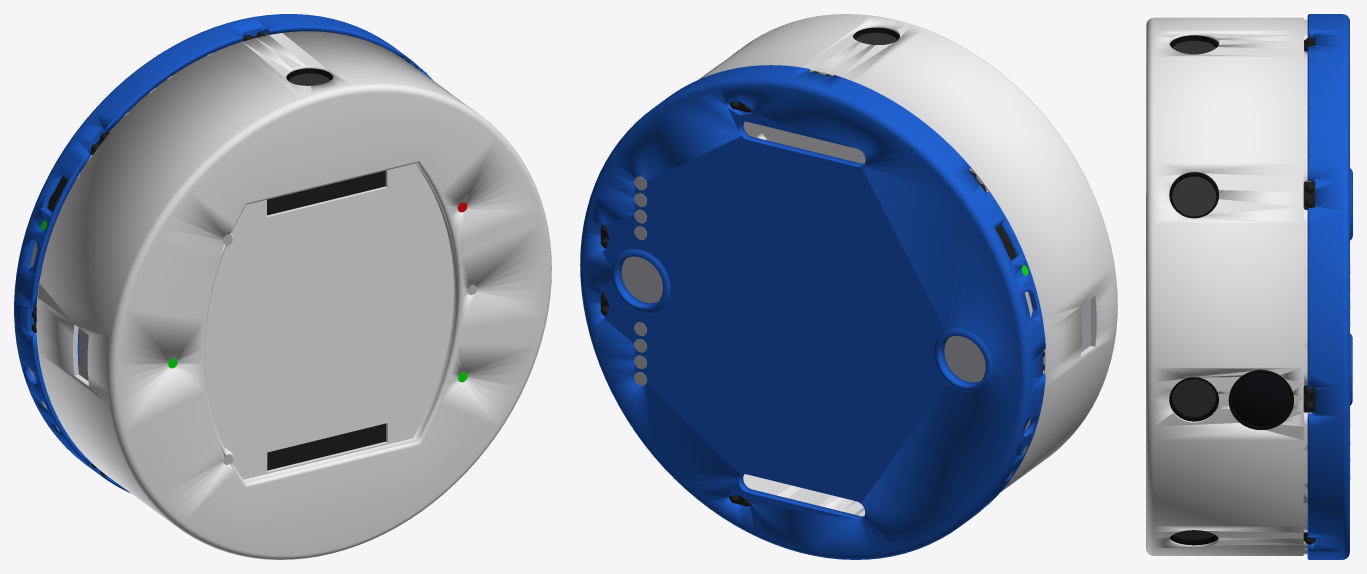
File: khepera4_chassis.obj
3 views of the same model, side by side, from view 1: azimuth 30°, elevation 25°; view 2: azimuth 150°, elevation 25°; view 3: azimuth 270°, elevation 25° (orthographic). The views are drawn at different scales.
Visible parts, largest first — view 1: Case, Base, KB-250_Extension_r, KB-250_Extension_l; view 2: Base, Case, Front_caster_support, Back_caster_support; view 3: Case, Base, Front_camera, Ultrasonic_sensor_front_left, Ultrasonic_sensor_front, Ultrasonic_sensor_hole_front_left, Ultrasonic_sensor_hole_front, Ultrasonic_sensor_left, IR_Sensor_front_l, IR_Sensor_front, Ultrasonic_sensor_front_right, Ultrasonic_sensor_left_hole (+1 smaller).
Boxes of the visible parts, x1=… form: Case: x1=35, y1=31, x2=551, y2=559; Base: x1=14, y1=14, x2=432, y2=493; KB-250_Extension_r: x1=267, y1=423, x2=385, y2=470; KB-250_Extension_l: x1=267, y1=170, x2=385, y2=215; Base: x1=580, y1=65, x2=1045, y2=559; Case: x1=699, y1=14, x2=1117, y2=516; Front_caster_support: x1=621, y1=256, x2=662, y2=303; Back_caster_support: x1=944, y1=336, x2=985, y2=382; Case: x1=1146, y1=17, x2=1311, y2=555; Base: x1=1307, y1=14, x2=1352, y2=559; Front_camera: x1=1228, y1=370, x2=1293, y2=429; Ultrasonic_sensor_front_left: x1=1172, y1=176, x2=1216, y2=216; Ultrasonic_sensor_front: x1=1172, y1=379, x2=1216, y2=416; Ultrasonic_sensor_hole_front_left: x1=1169, y1=172, x2=1218, y2=218; Ultrasonic_sensor_hole_front: x1=1169, y1=377, x2=1218, y2=421; Ultrasonic_sensor_left: x1=1173, y1=40, x2=1215, y2=54; IR_Sensor_front_l: x1=1303, y1=181, x2=1315, y2=209; IR_Sensor_front: x1=1303, y1=385, x2=1315, y2=412; Ultrasonic_sensor_front_right: x1=1173, y1=530, x2=1214, y2=539; Ultrasonic_sensor_left_hole: x1=1169, y1=35, x2=1218, y2=48.
Bounding box in the file's own units: 0.142 × 0.142 × 0.0538.
